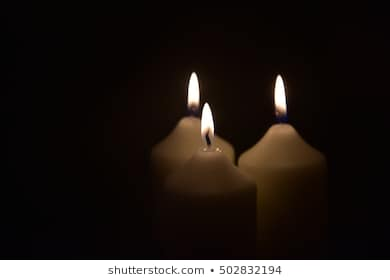Fire: (268, 72, 288, 116), (181, 69, 200, 112), (202, 100, 218, 151)
